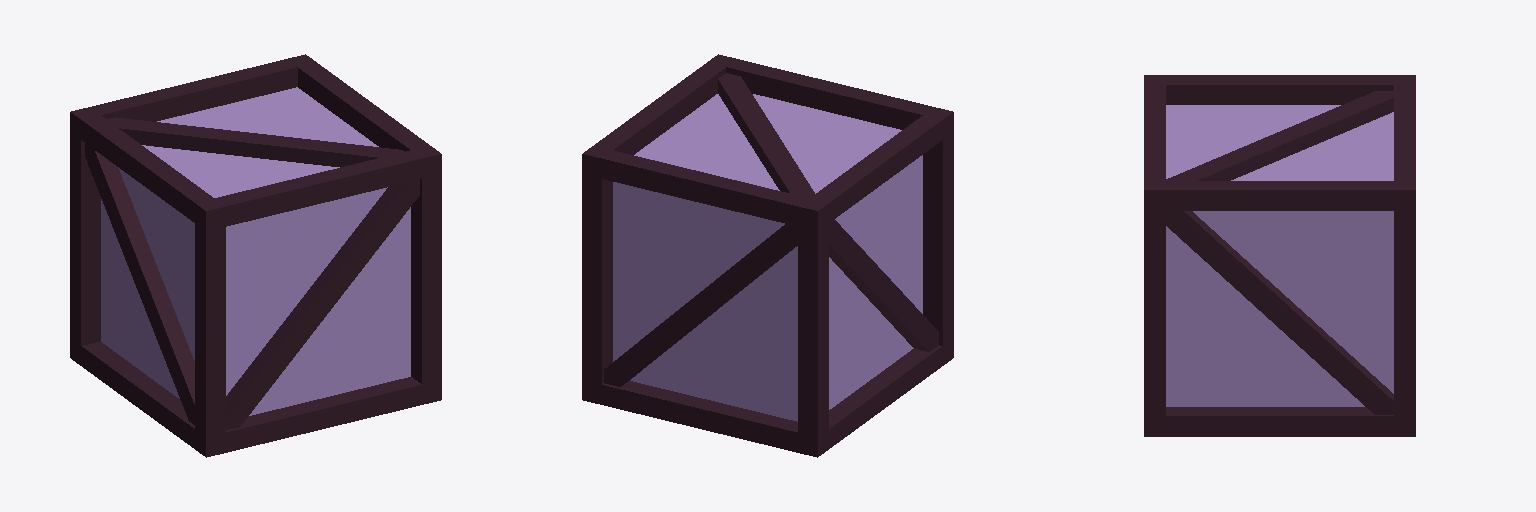
File: Chest_A.obj
3 renders of one model, left to right at view 1: azimuth 30°, elevation 25°; view 2: azimuth 150°, elevation 25°; view 3: azimuth 270°, elevation 25°, orthographic.
Visible parts, largest first — view 1: Chest_A; view 2: Chest_A; view 3: Chest_A.
Part boxes in pixels (left/top/right/bottom): Chest_A: left=70, top=54, right=441, bottom=457; Chest_A: left=582, top=54, right=953, bottom=457; Chest_A: left=1144, top=75, right=1415, bottom=436.
Size of the model in its own units: 3.6 by 3.6 by 3.6.